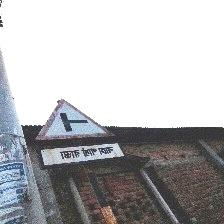Side-road-left: (34, 100, 129, 170)
